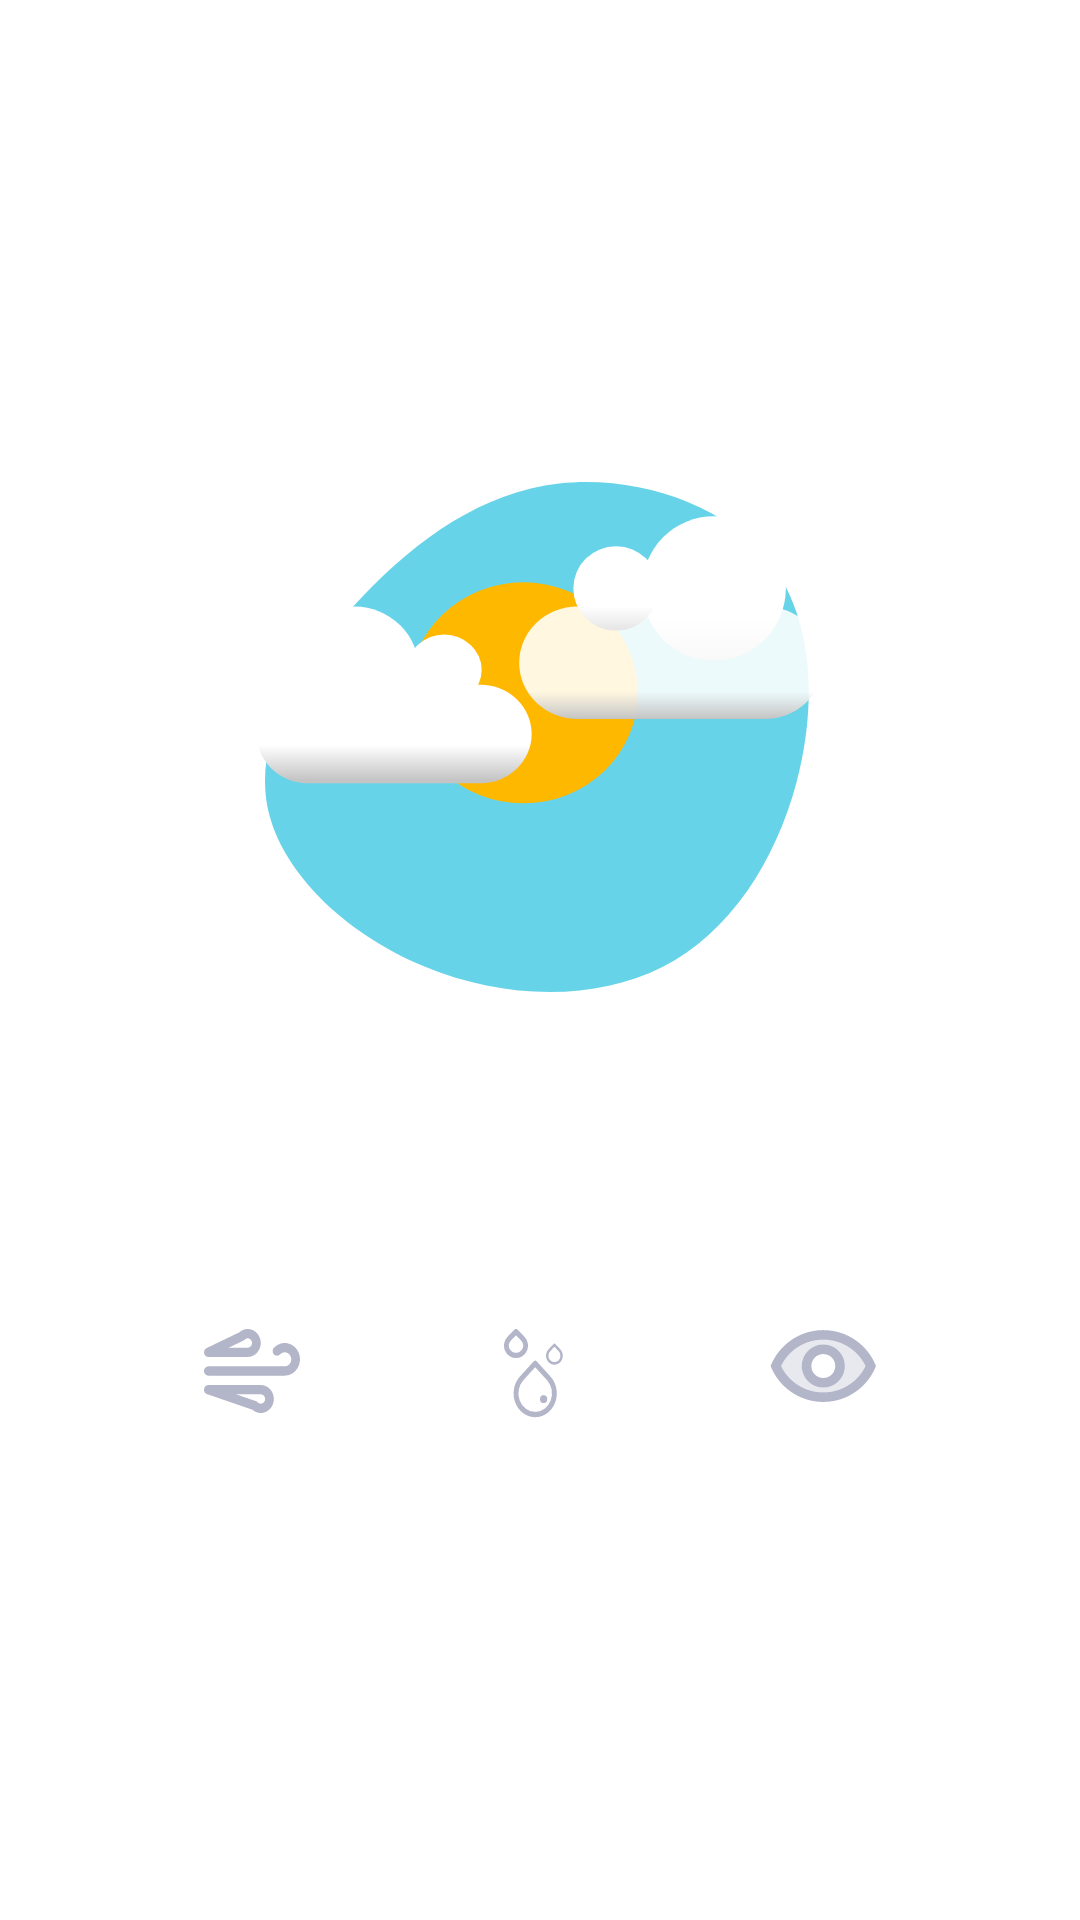

Screen size 1080 × 1920. Icon name, then its box in pixels as (x1, y1, x2, y2):
Humidity: (504, 1329, 563, 1417)
Visibility: (771, 1330, 876, 1402)
Wind: (204, 1329, 300, 1413)
